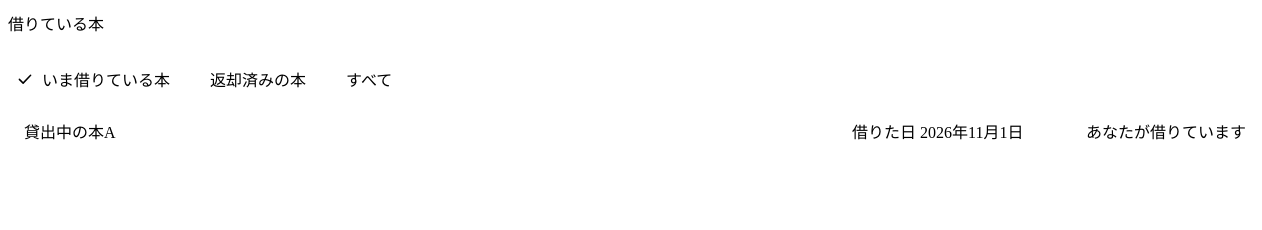
LoanListPage › LL-08: 「すべて」を押すと、2件とも表示し、そのチップだけが選ばれる
Expected: the text "貸出中の本A" is shown, [24,124,116,141]
Click the button "すべて" at (369, 79), box [330,63,408,95]
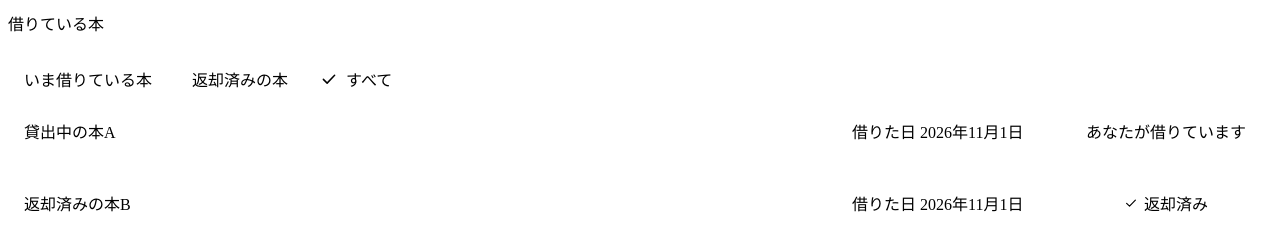
Expected: the text "貸出中の本A" is shown, [24,124,116,141]
Expected: the text "返却済みの本B" is shown, [24,196,131,213]
